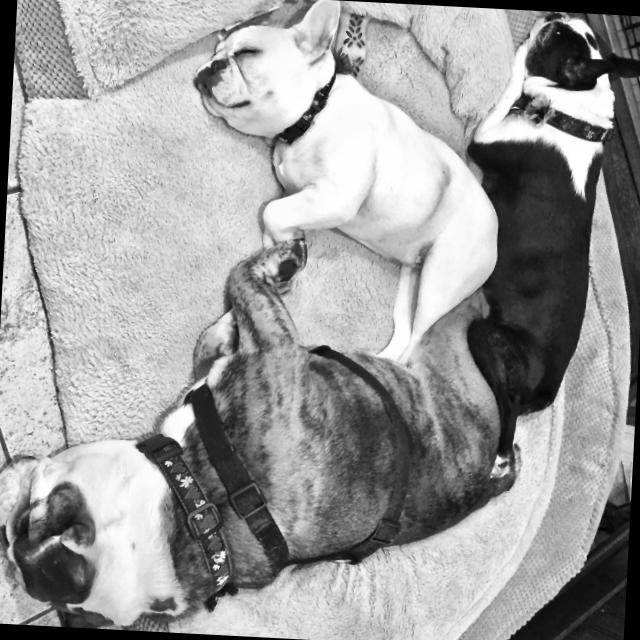laying down: (0, 218, 521, 640), (165, 0, 511, 369), (457, 8, 640, 483)
